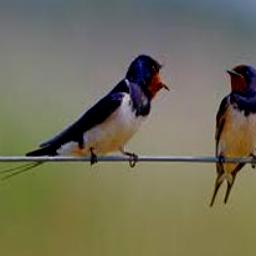Swallow: (0, 53, 173, 180), (211, 61, 256, 207)
